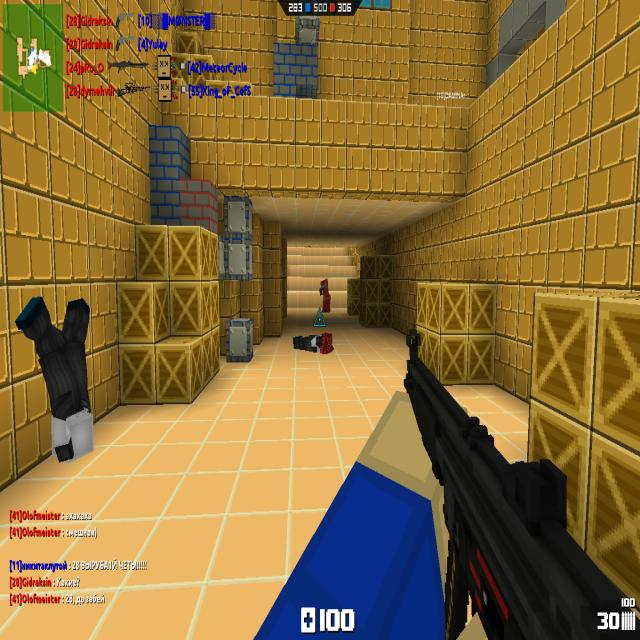enemy: (319, 278, 331, 313)
